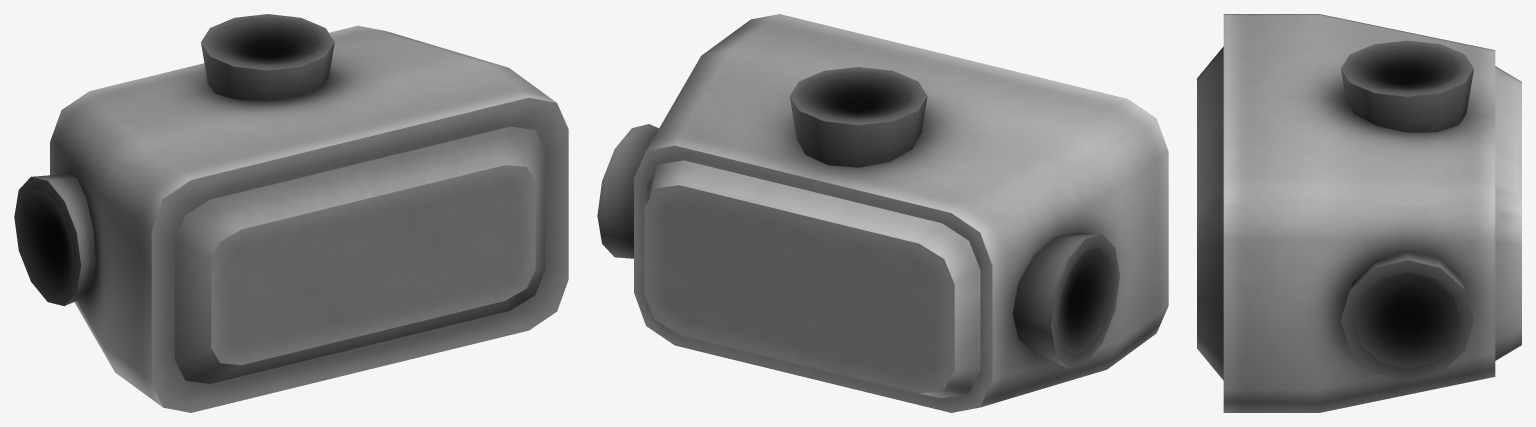
The model's file is Tantares_MOE_2.obj.
3 renders of one model, left to right at view 1: azimuth 30°, elevation 25°; view 2: azimuth 150°, elevation 25°; view 3: azimuth 270°, elevation 25°, orthographic. The views are drawn at different scales.
Parts seen in each view (by area): view 1: Tantares_MOE_2; view 2: Tantares_MOE_2; view 3: Tantares_MOE_2.
Part boxes in pixels (x1,y1,x2,y2): Tantares_MOE_2: (14,14,568,412); Tantares_MOE_2: (597,14,1168,412); Tantares_MOE_2: (1197,14,1521,412).
Bounding box in the file's own units: 0.2375 × 0.135 × 0.1525.
